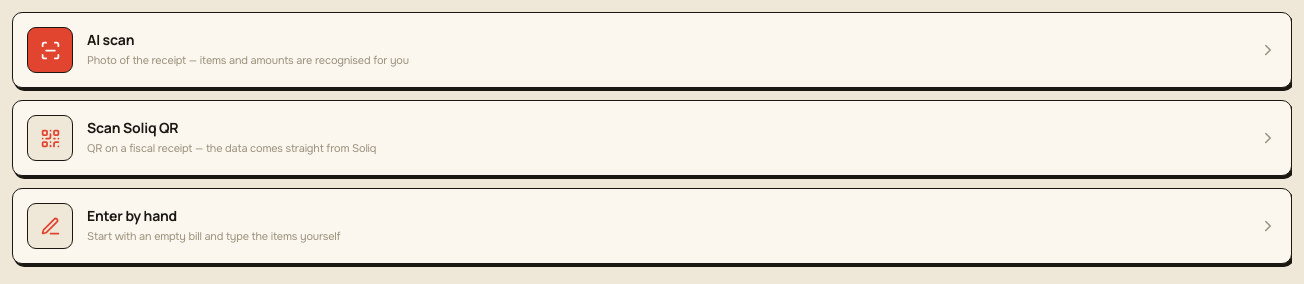
it: StepSource — where the photo comes from › backs out of the question without picking anything
The image size is (1304, 284).
Click the text "AI scan": (111, 40) [87,30,134,49]
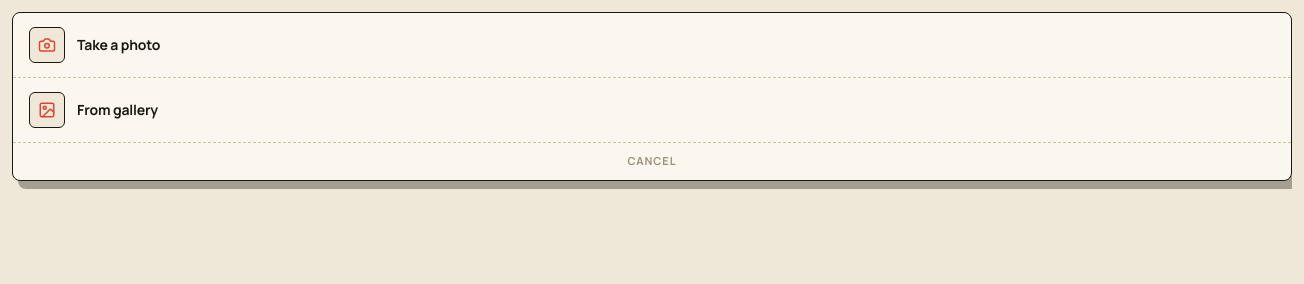
Click the button "Cancel": (652, 161) [13,143,1291,180]
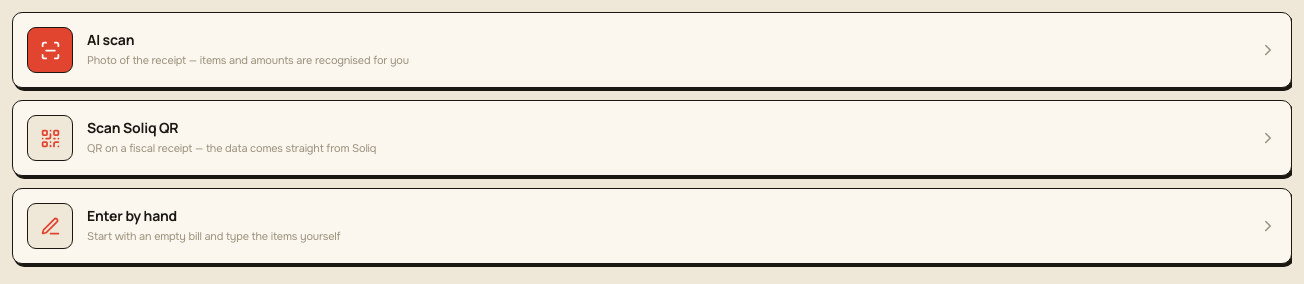
Check: the text "AI scan" is shown, box [87,30,134,49]
